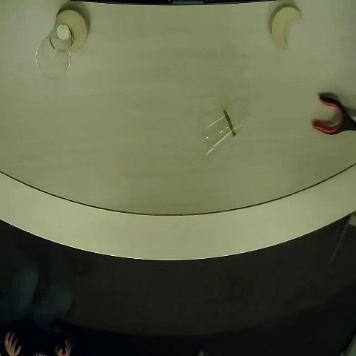empty_cup: (194, 107, 243, 161), (36, 22, 73, 80)
puck: (271, 7, 302, 49), (55, 10, 86, 52)
